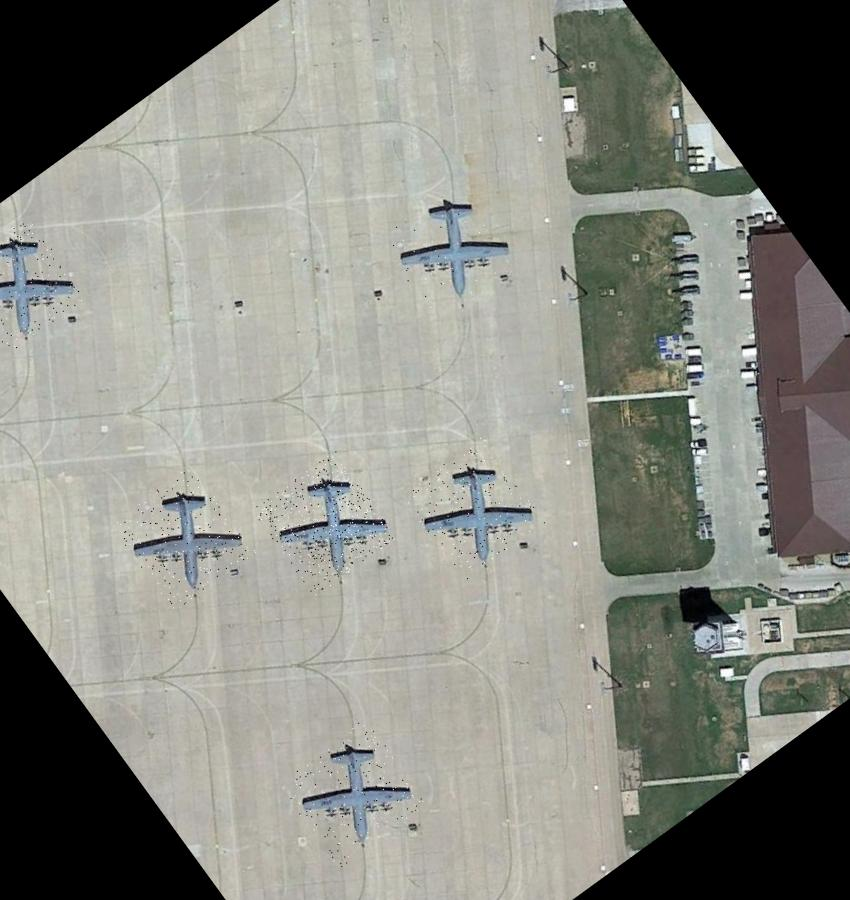A2: (276, 717, 428, 868), (108, 462, 256, 612), (251, 449, 398, 596), (400, 435, 546, 582), (376, 177, 520, 321), (0, 213, 87, 358)
